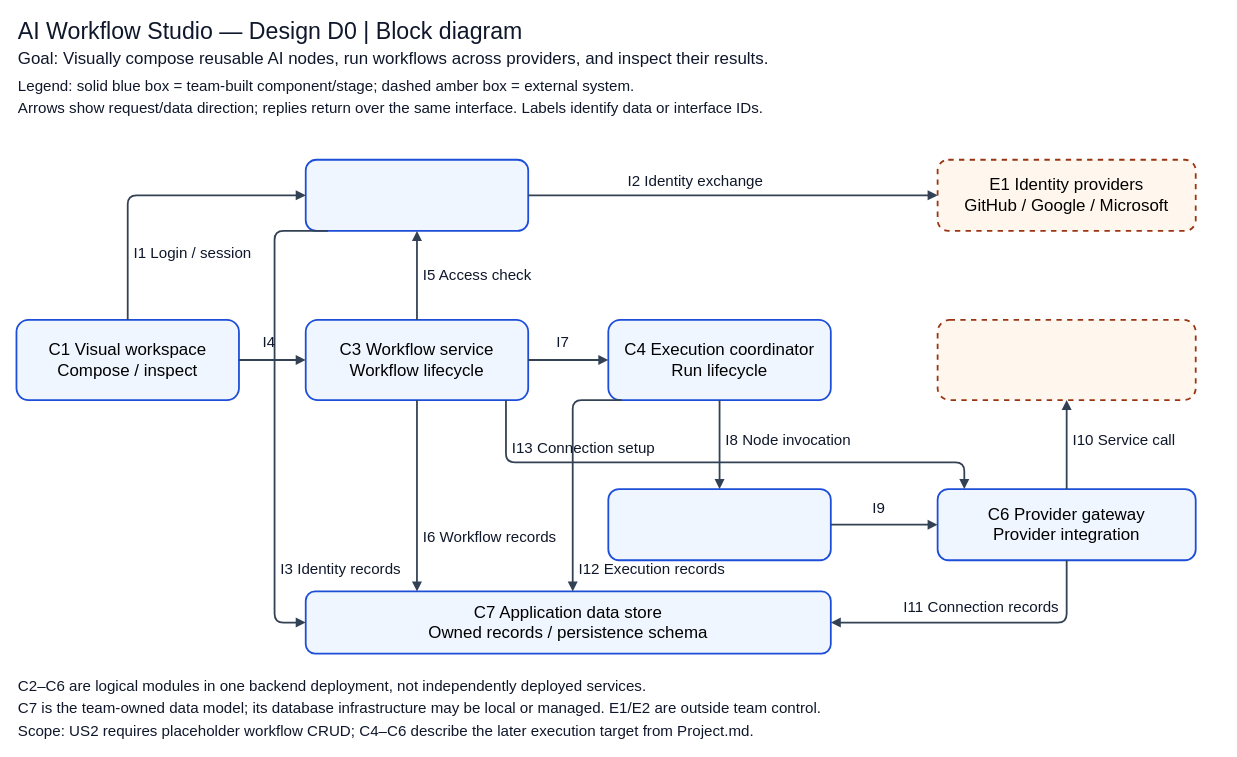
Image size: 1237x757. Some labels were removed from this diagram. The box of each missing label's shape, as (x1, y1, x2, y2) in pixels:
C2 Access service Identity / permissions: (304, 158, 529, 231)
C5 Node runtime Typed node operations: (607, 488, 831, 561)
E2 AI / external services Azure / AWS / GCP / OpenAI Local models / REST: (936, 319, 1196, 400)
